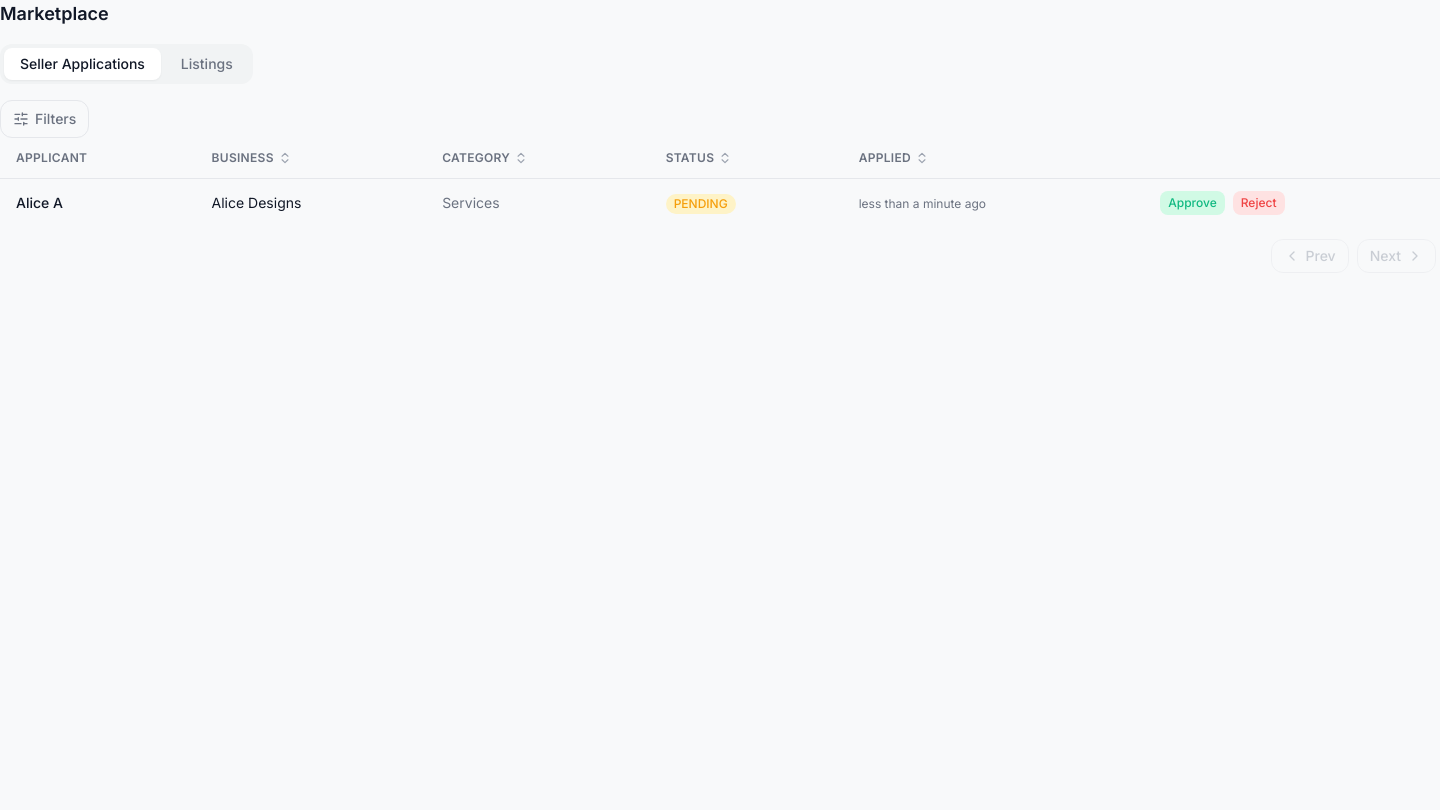
it: MarketplacePage › shows reject confirm modal when reject is clicked
Click the button with test id "reject-app1": (1259, 203) [1233, 191, 1285, 215]
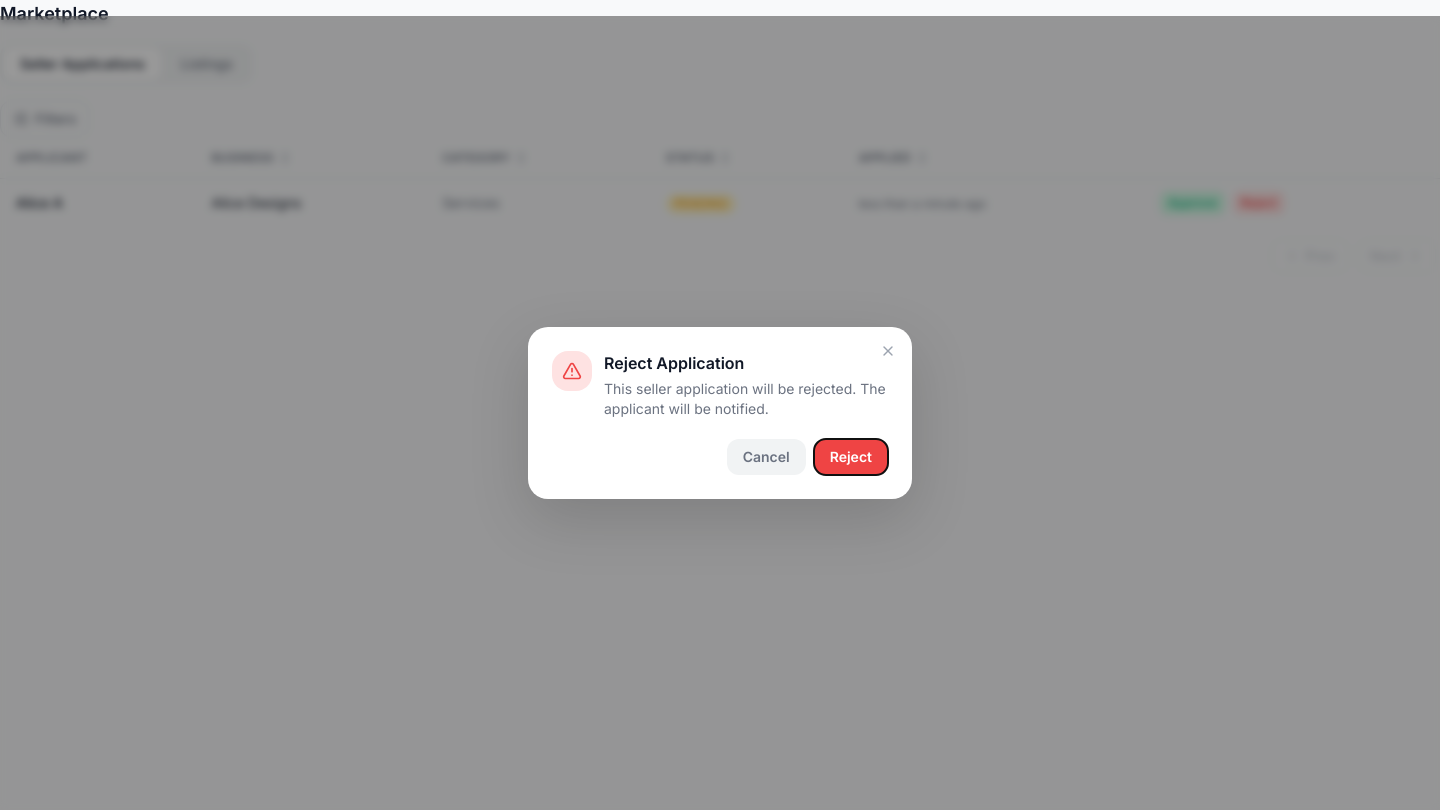
Result: the heading "Reject Application" is shown at [604, 353, 744, 373]
